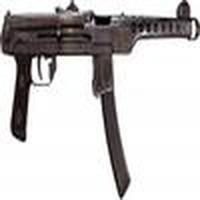gun: (2, 4, 200, 106)
